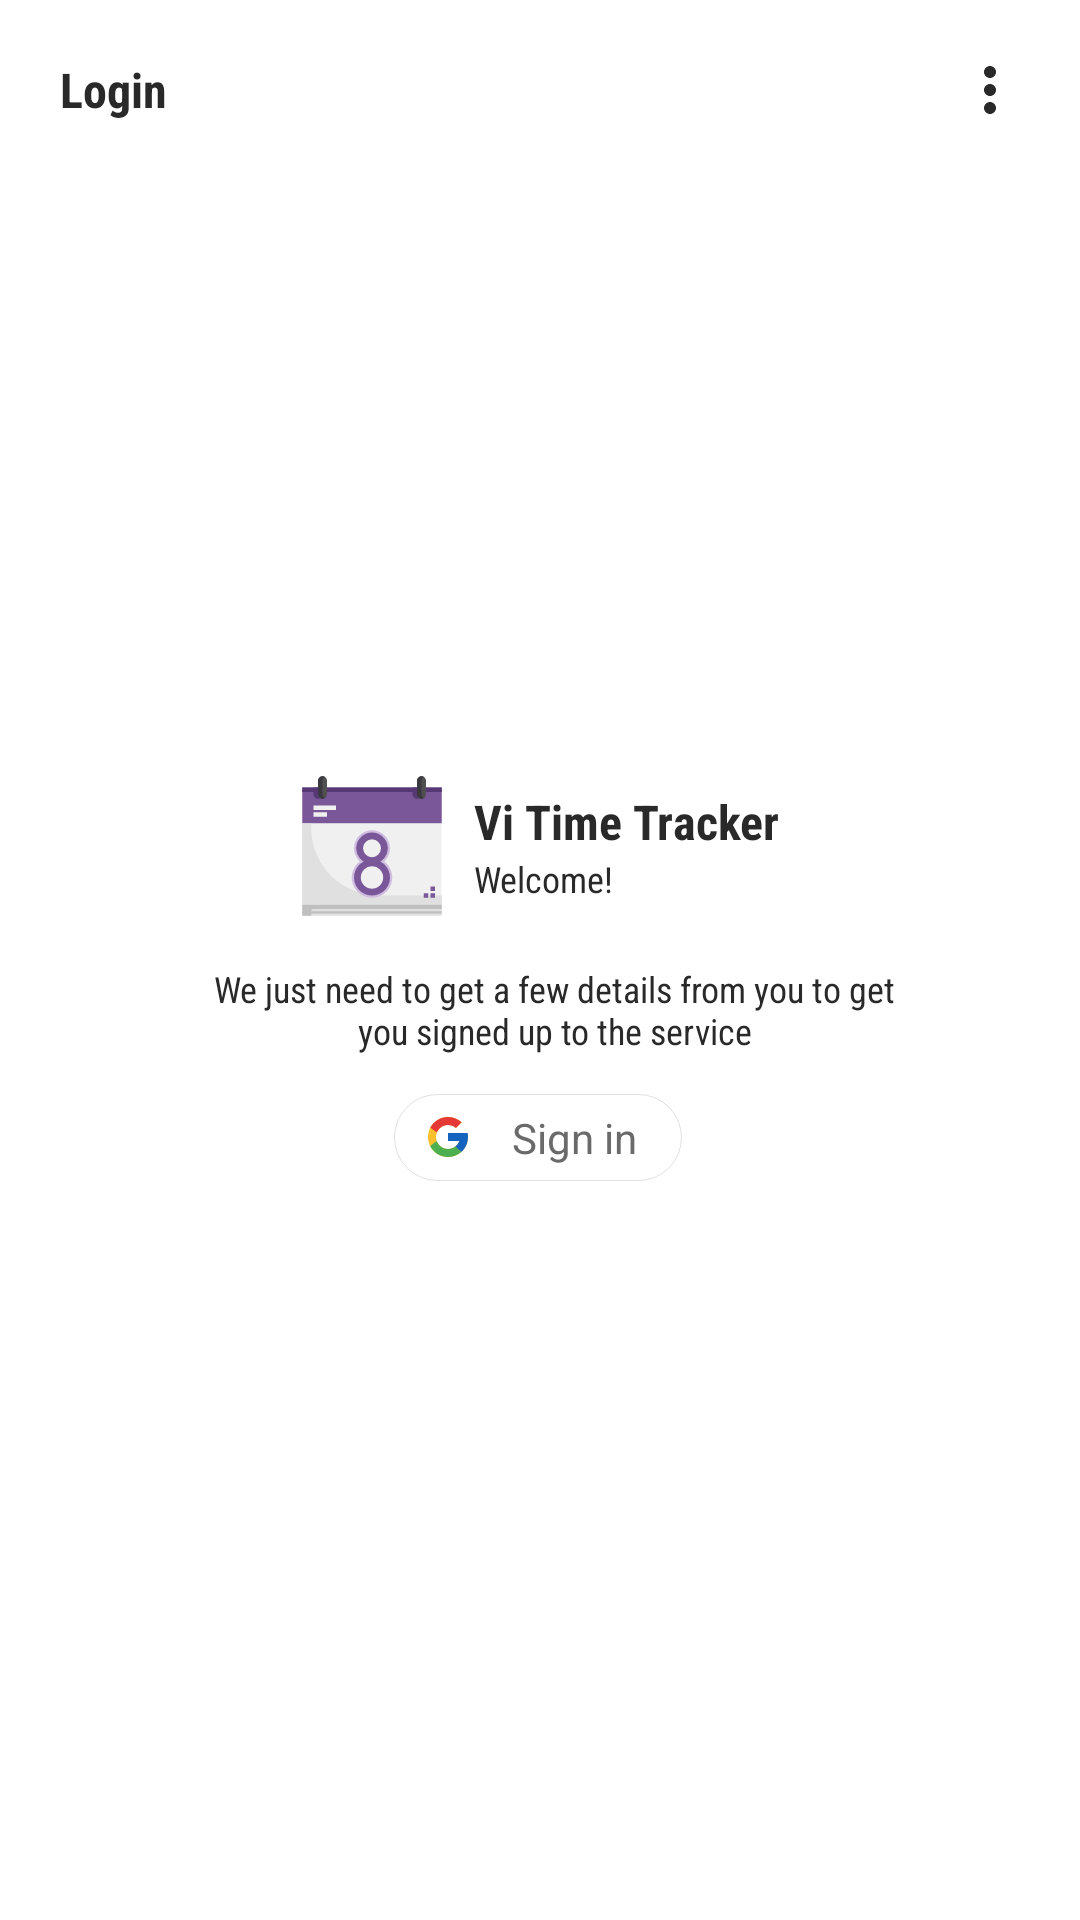

Icon click points for this 1080px x 1920px phone screenshot, format (x=x, y=y):
calendar: (x=372, y=846)
more vert: (x=990, y=90)
